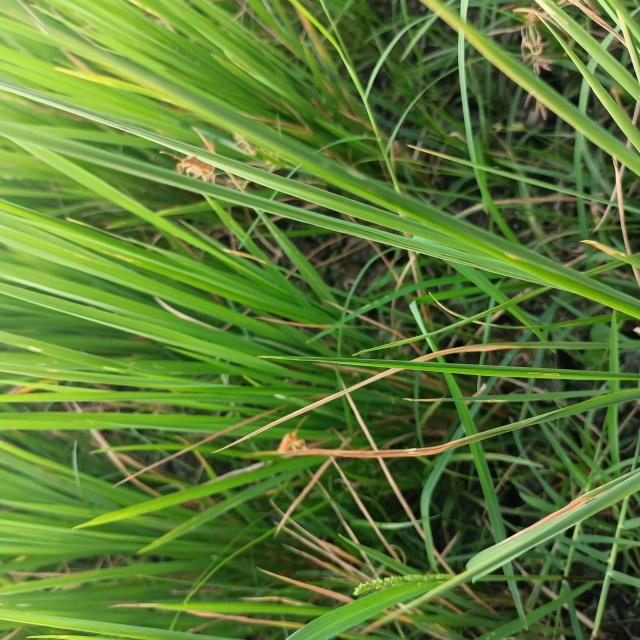walang sangit pada tanaman padi: (151, 133, 231, 196), (260, 415, 316, 468)
